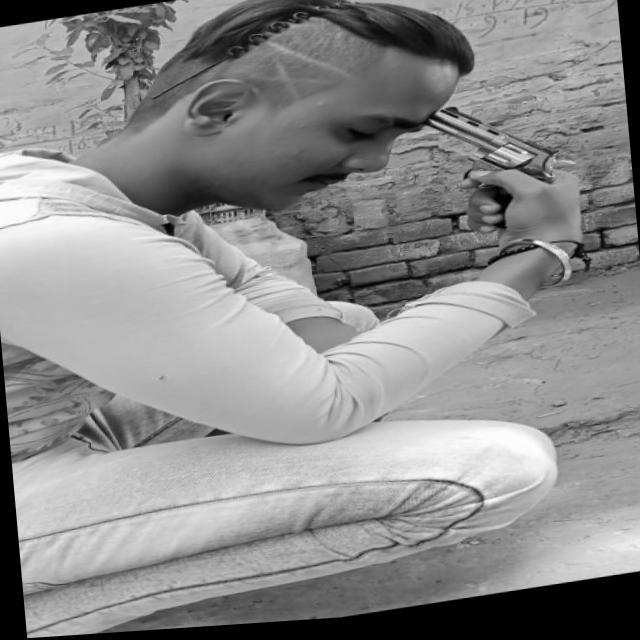weapon: (416, 92, 588, 249)
